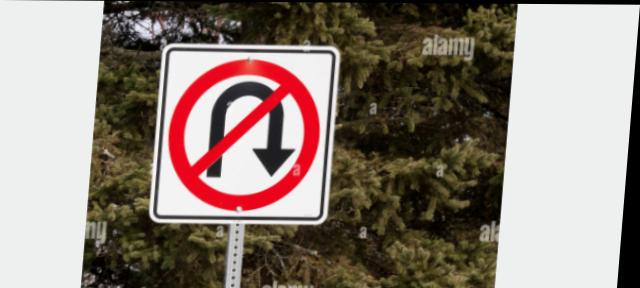not_u_turn_right: (160, 51, 333, 218)
